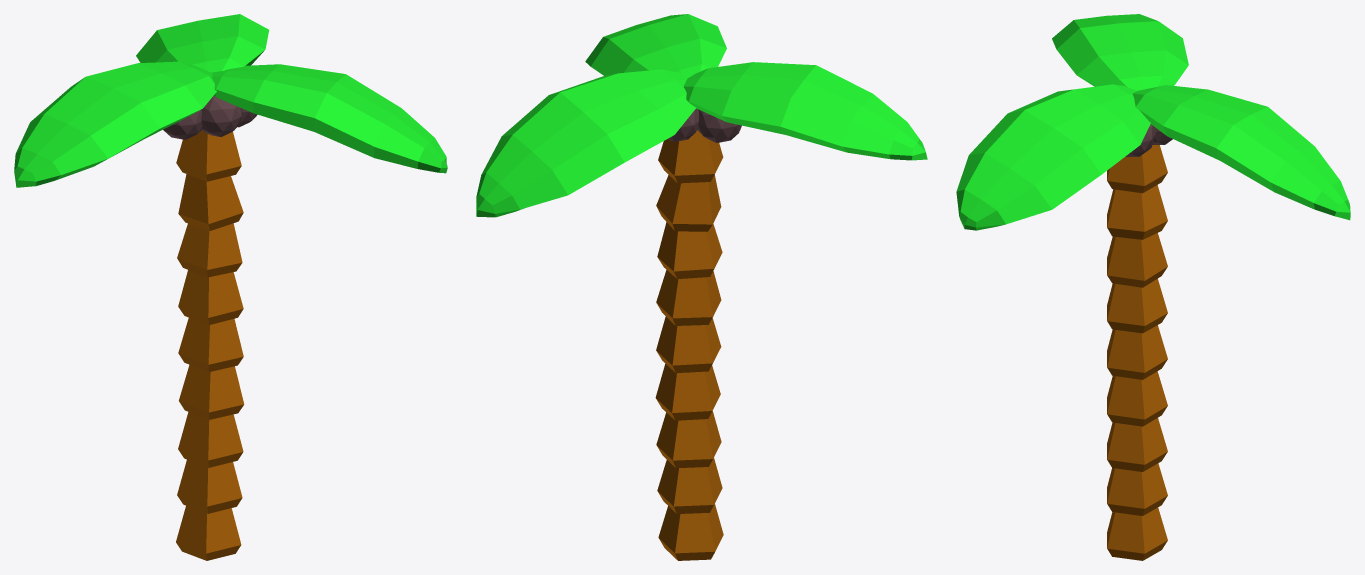
Rendered from palm.fbx.
The picture shows the model from 3 angles, left to right: view 1: azimuth 30°, elevation 25°; view 2: azimuth 150°, elevation 25°; view 3: azimuth 270°, elevation 25°; orthographic projection. The views are drawn at different scales.
Visible parts, largest first — view 1: Cube, Cube.001, Cube.002, Cylinder.017, Cylinder.022, Cylinder.021, Cylinder.019, Cylinder.018, Cylinder.020, Cylinder.024, Cylinder.023, Cylinder.016 (+2 smaller); view 2: Cube.002, Cube, Cube.001, Cylinder.017, Cylinder.022, Cylinder.021, Cylinder.019, Cylinder.018, Cylinder.020, Cylinder.024, Cylinder.023, Cylinder.016 (+1 smaller); view 3: Cube.001, Cube.002, Cube, Cylinder.018, Cylinder.017, Cylinder.021, Cylinder.020, Cylinder.019, Cylinder.022, Cylinder.024, Cylinder.023, Cylinder.016.
Boxes of the visible parts, box(x1,y1,x2,y2) form: Cube: box(14, 61, 216, 187); Cube.001: box(211, 64, 447, 173); Cube.002: box(136, 14, 269, 72); Cylinder.017: box(178, 174, 243, 230); Cylinder.022: box(178, 412, 243, 467); Cylinder.021: box(179, 364, 244, 419); Cylinder.019: box(178, 270, 243, 324); Cylinder.018: box(177, 223, 242, 277); Cylinder.020: box(178, 317, 243, 371); Cylinder.024: box(176, 505, 241, 560); Cylinder.023: box(177, 459, 242, 513); Cylinder.016: box(176, 130, 241, 181); Cube.002: box(476, 69, 696, 217); Cube: box(683, 62, 927, 160); Cube.001: box(585, 14, 726, 78); Cylinder.017: box(656, 174, 721, 231); Cylinder.022: box(656, 411, 721, 468); Cylinder.021: box(655, 364, 720, 420); Cylinder.019: box(656, 270, 721, 325); Cylinder.018: box(657, 222, 722, 279); Cylinder.020: box(656, 316, 721, 373); Cylinder.024: box(658, 504, 723, 560); Cylinder.023: box(657, 458, 722, 513); Cylinder.016: box(658, 130, 723, 183); Cube.001: box(956, 84, 1150, 230); Cube.002: box(1132, 85, 1350, 220); Cube: box(1052, 14, 1188, 90); Cylinder.018: box(1107, 233, 1167, 287); Cylinder.017: box(1107, 185, 1167, 239); Cylinder.021: box(1107, 371, 1167, 426); Cylinder.020: box(1107, 325, 1167, 379); Cylinder.019: box(1107, 278, 1167, 333); Cylinder.022: box(1107, 418, 1167, 471); Cylinder.024: box(1107, 507, 1167, 560); Cylinder.023: box(1107, 463, 1167, 515); Cylinder.016: box(1107, 145, 1167, 193).
Bounding box in the file's own units: 1042 × 1311 × 981.
